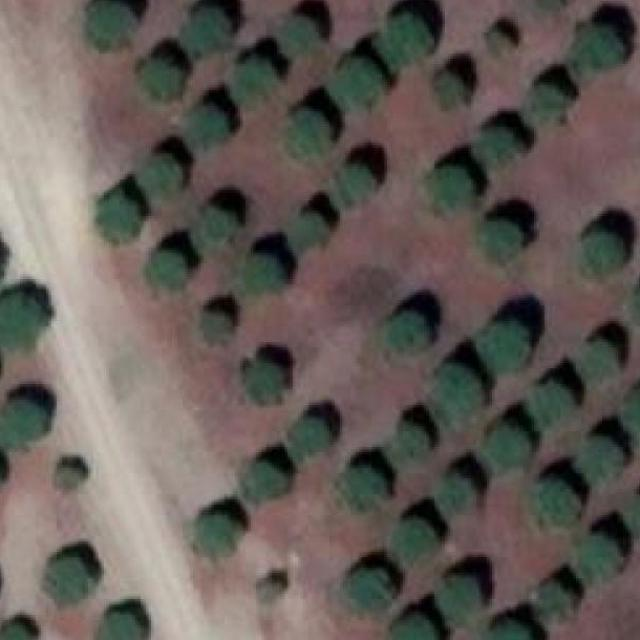Tree: (429, 363, 490, 431), (529, 478, 586, 534), (0, 389, 50, 446), (0, 288, 44, 350), (473, 122, 531, 169), (182, 4, 233, 57), (482, 321, 534, 371), (43, 554, 95, 604), (384, 11, 434, 62), (576, 431, 626, 482), (235, 50, 282, 101), (88, 0, 135, 51), (237, 242, 282, 295), (337, 466, 387, 513), (389, 516, 440, 562), (487, 424, 539, 469), (428, 160, 473, 211), (146, 242, 188, 295), (384, 308, 429, 356), (240, 356, 291, 398), (348, 566, 394, 612), (576, 25, 623, 70), (195, 505, 240, 552), (340, 59, 382, 109), (288, 108, 330, 158), (482, 211, 524, 261), (138, 57, 182, 104), (138, 153, 182, 198), (578, 529, 620, 576), (244, 458, 290, 500), (193, 101, 235, 146), (534, 379, 576, 424), (436, 576, 478, 621), (587, 230, 623, 282), (332, 164, 374, 208), (442, 473, 482, 515), (100, 193, 140, 235), (198, 200, 240, 240), (539, 578, 579, 618), (292, 412, 332, 452), (279, 14, 316, 56), (102, 606, 147, 640), (431, 69, 468, 109), (534, 83, 574, 117), (295, 206, 329, 246), (382, 615, 434, 640), (583, 340, 618, 377), (485, 617, 537, 640), (200, 308, 235, 340), (59, 458, 88, 494), (623, 384, 640, 440), (482, 27, 513, 57), (398, 423, 429, 452), (262, 573, 288, 602), (526, 0, 566, 18), (625, 492, 640, 537), (0, 620, 33, 640), (634, 284, 640, 318)
